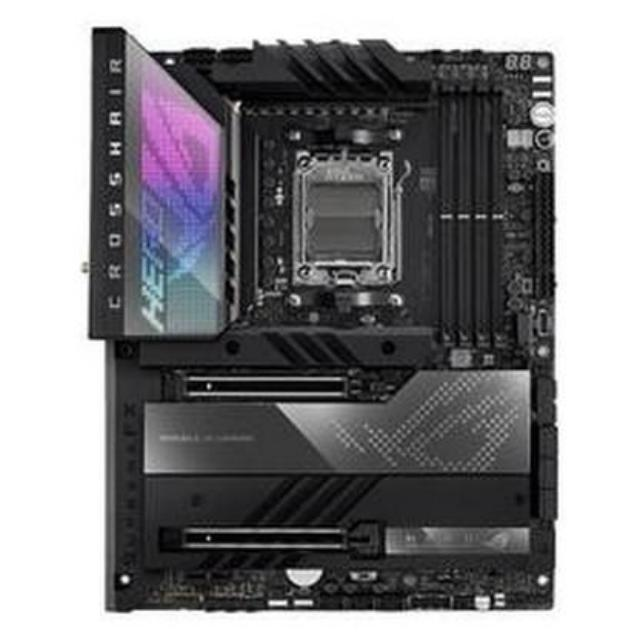Mainboard: (86, 29, 562, 616)
